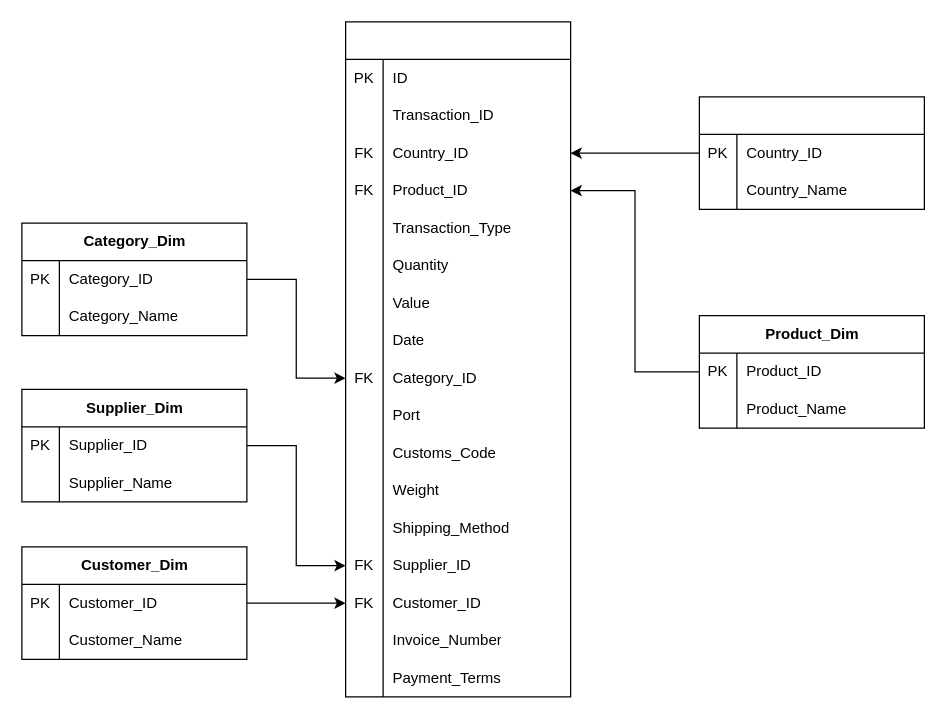
Some shapes in this 946 by 719 pixel diagram are drawn without their labels. Here are the shapes that lost their labels. From the top down, the box of each, then its label:
(698, 96, 924, 209): Country_Dim
(344, 21, 571, 697): Transactions_Fact
